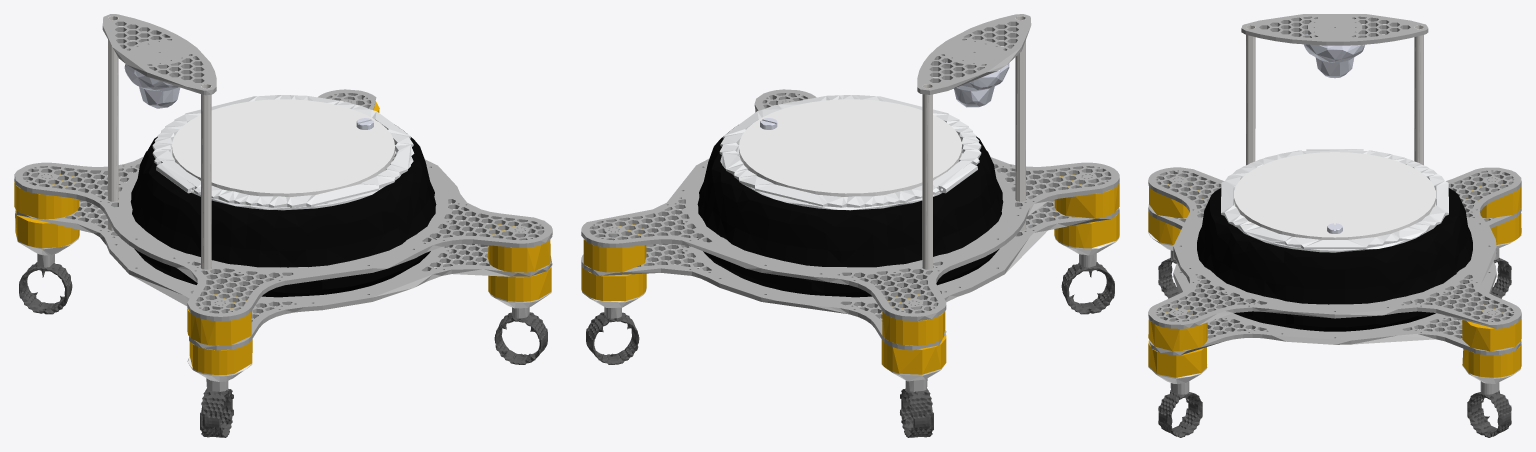
The model's file is H3O_Omni_simplified.dae.
3 views of the same model, side by side, from view 1: azimuth 30°, elevation 25°; view 2: azimuth 150°, elevation 25°; view 3: azimuth 270°, elevation 25° (orthographic). The views are drawn at different scales.
Parts seen in each view (by area): view 1: node0, node154, node11, node7, node12, node153, node145, node8, node6, node144, node143, node39 (+12 smaller); view 2: node0, node154, node13, node7, node153, node145, node11, node10, node6, node9, node143, node144 (+12 smaller); view 3: node0, node154, node12, node13, node153, node145, node9, node11, node7, node8, node5, node3 (+15 smaller).
Part boxes in pixels (x1,y1,x2,y2): node0: [130, 130, 441, 297]; node154: [172, 99, 394, 196]; node11: [176, 242, 425, 321]; node7: [14, 158, 191, 267]; node12: [405, 159, 552, 252]; node153: [152, 95, 414, 207]; node145: [102, 14, 216, 95]; node8: [302, 229, 552, 311]; node6: [106, 240, 304, 350]; node144: [201, 84, 211, 290]; node143: [108, 16, 118, 230]; node39: [187, 294, 251, 345]; node0: [692, 127, 1003, 297]; node154: [739, 99, 961, 196]; node13: [581, 194, 831, 282]; node7: [829, 211, 1027, 321]; node153: [719, 95, 981, 207]; node145: [917, 14, 1031, 94]; node11: [990, 157, 1119, 216]; node10: [708, 271, 957, 350]; node6: [942, 199, 1119, 296]; node9: [581, 218, 728, 281]; node143: [922, 84, 932, 290]; node144: [1015, 16, 1025, 236]; node0: [1197, 188, 1472, 331]; node154: [1234, 152, 1435, 239]; node12: [1148, 269, 1398, 328]; node13: [1389, 219, 1521, 328]; node153: [1221, 150, 1448, 248]; node145: [1241, 14, 1428, 45]; node9: [1271, 297, 1521, 355]; node11: [1148, 167, 1223, 276]; node7: [1446, 167, 1521, 222]; node8: [1149, 263, 1280, 355]; node5: [1462, 305, 1521, 351]; node3: [1467, 390, 1511, 437].
Size of the model in its own units: 0.7562 by 0.7564 by 0.636.
